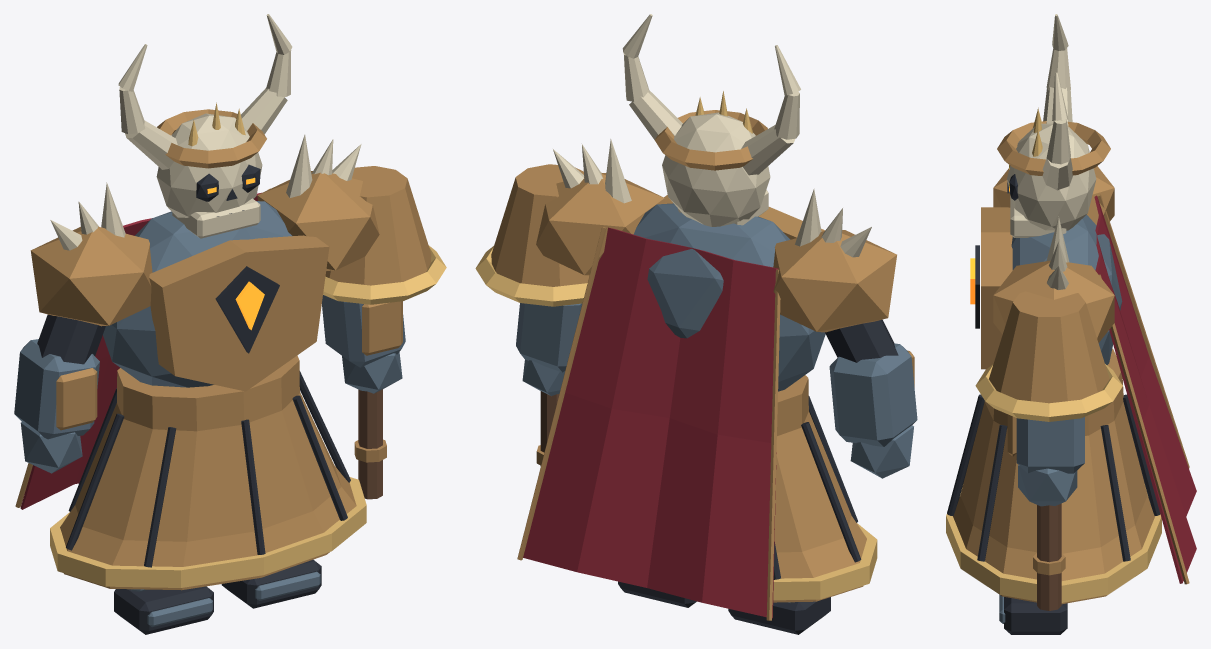
The model's file is boss.glb.
3 renders of one model, left to right at view 1: azimuth 30°, elevation 25°; view 2: azimuth 150°, elevation 25°; view 3: azimuth 270°, elevation 25°, orthographic. The views are drawn at different scales.
Parts seen in each view (by area): view 1: boss_body_mesh, boss_arm_l_mesh, boss_head_mesh, boss_arm_r_mesh, boss_weapon_mesh, boss_cape_mesh, boss_leg_l_mesh, boss_leg_r_mesh; view 2: boss_cape_mesh, boss_body_mesh, boss_arm_l_mesh, boss_head_mesh, boss_arm_r_mesh, boss_weapon_mesh, boss_leg_l_mesh, boss_leg_r_mesh; view 3: boss_body_mesh, boss_weapon_mesh, boss_head_mesh, boss_cape_mesh, boss_arm_r_mesh, boss_leg_r_mesh, boss_arm_l_mesh.
Part boxes in pixels (x1,y1,x2,y2): boss_body_mesh: (50, 201, 366, 590); boss_arm_l_mesh: (14, 182, 152, 473); boss_head_mesh: (118, 14, 292, 238); boss_arm_r_mesh: (257, 134, 405, 393); boss_weapon_mesh: (323, 166, 446, 499); boss_cape_mesh: (15, 188, 270, 509); boss_leg_l_mesh: (114, 586, 213, 634); boss_leg_r_mesh: (221, 559, 321, 608); boss_cape_mesh: (517, 226, 780, 620); boss_body_mesh: (633, 195, 877, 602); boss_arm_l_mesh: (773, 188, 917, 478); boss_head_mesh: (622, 14, 800, 226); boss_arm_r_mesh: (516, 139, 664, 395); boss_weapon_mesh: (475, 164, 589, 466); boss_leg_l_mesh: (728, 597, 830, 634); boss_leg_r_mesh: (618, 581, 696, 607); boss_body_mesh: (946, 207, 1161, 604); boss_weapon_mesh: (975, 291, 1122, 610); boss_head_mesh: (997, 14, 1110, 237); boss_cape_mesh: (1094, 193, 1196, 584); boss_arm_r_mesh: (993, 216, 1114, 506); boss_leg_r_mesh: (999, 594, 1067, 634); boss_arm_l_mesh: (993, 166, 1114, 224).
Size of the model in its own units: 2.91 by 3.83 by 1.58.
